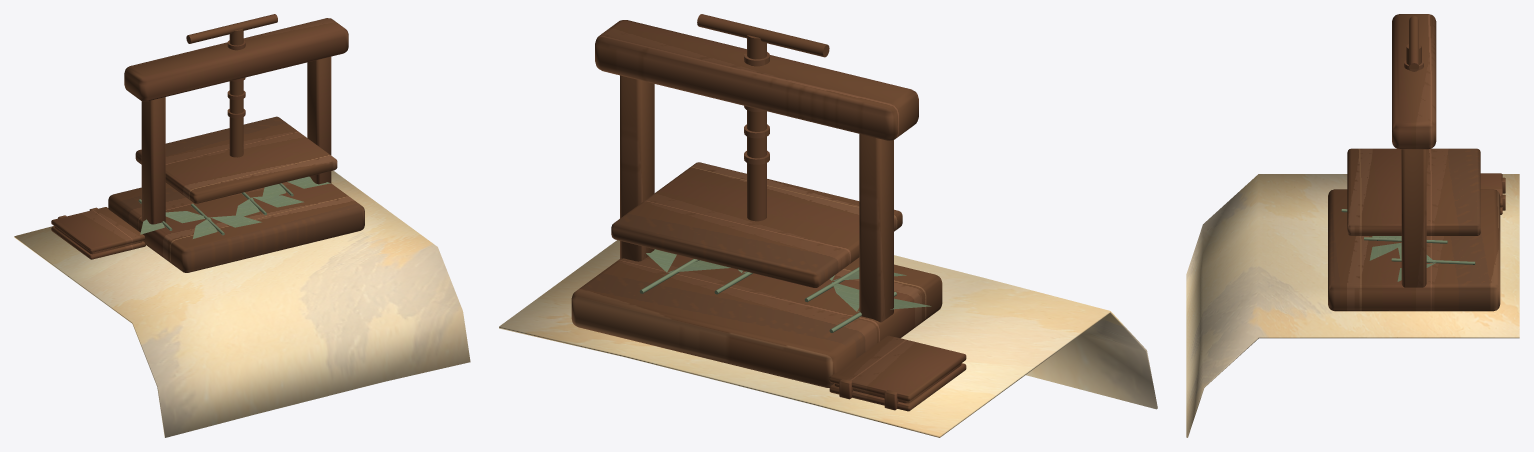
Rendered from CM_LI03_WorkSurfaceStory.fbx.
3 views of the same model, side by side, from view 1: azimuth 30°, elevation 25°; view 2: azimuth 150°, elevation 25°; view 3: azimuth 270°, elevation 25° (orthographic). The views are drawn at different scales.
Parts seen in each view (by area): view 1: CM_LI03_WorkSurfaceStory; view 2: CM_LI03_WorkSurfaceStory; view 3: CM_LI03_WorkSurfaceStory.
Part boxes in pixels (box(x1,y1,x2,y2)): CM_LI03_WorkSurfaceStory: box(14, 14, 470, 437); CM_LI03_WorkSurfaceStory: box(499, 14, 1157, 437); CM_LI03_WorkSurfaceStory: box(1186, 14, 1519, 437).
Size of the model in its own units: 0.7 by 0.6498 by 0.6.
